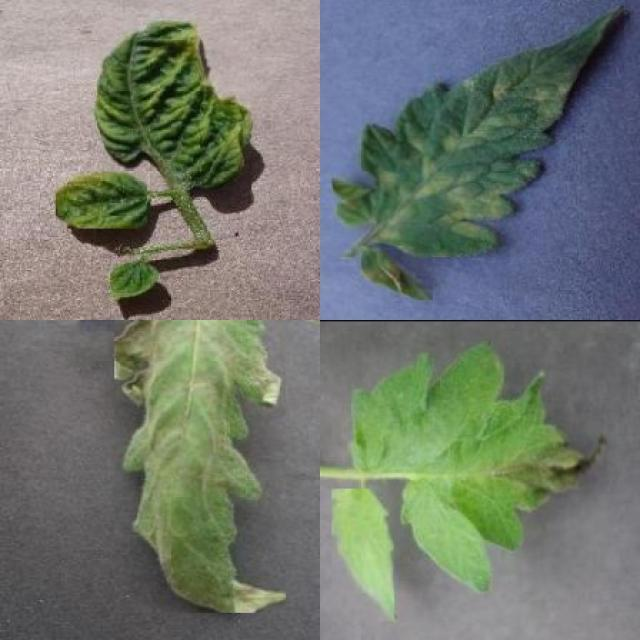Healthy: (332, 488, 395, 622)
Late Blight: (347, 342, 607, 592), (115, 320, 285, 613)
Leaf Mold: (334, 6, 625, 257), (358, 246, 433, 303)
Yellow Leaf Curl Virus: (97, 20, 252, 190), (56, 172, 148, 228)
